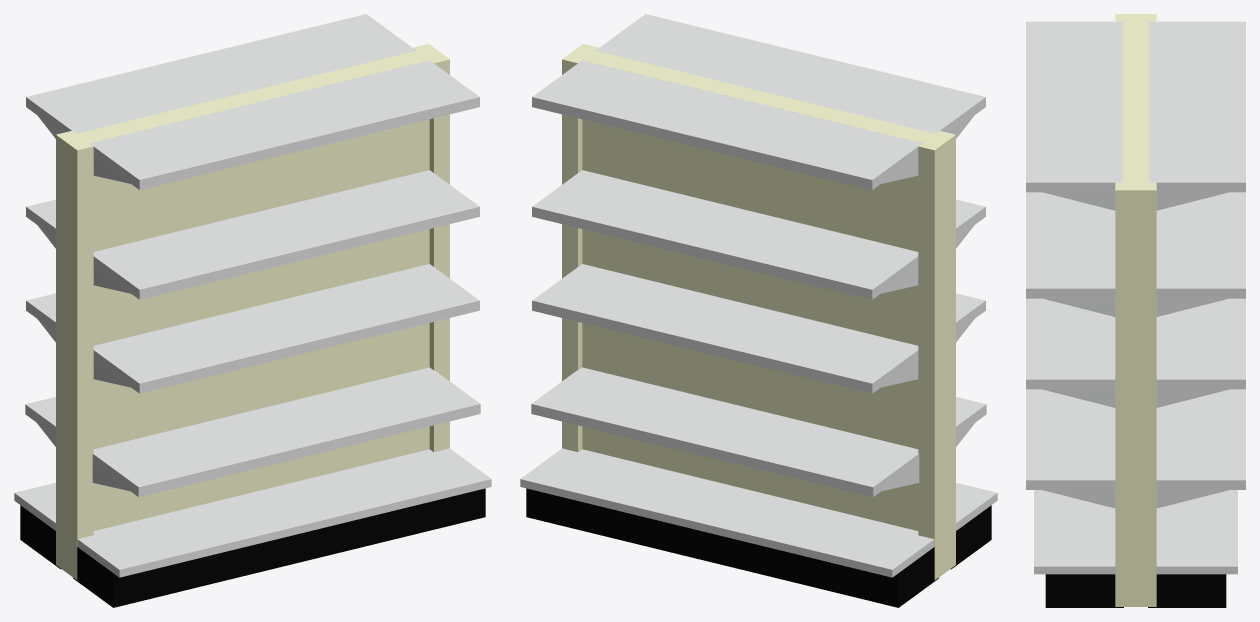
File: Aisle.Shelf.Long_.fbx
3 views of the same model, side by side, from view 1: azimuth 30°, elevation 25°; view 2: azimuth 150°, elevation 25°; view 3: azimuth 270°, elevation 25° (orthographic). The views are drawn at different scales.
Parts seen in each view (by area): view 1: Shelf; view 2: Shelf; view 3: Shelf.
Part boxes in pixels (<box>): Shelf: <box>14,14,491,607</box>; Shelf: <box>520,14,997,607</box>; Shelf: <box>1026,14,1245,607</box>.
Bounding box in the file's own units: 121 × 133 × 63.6.
1 material, 1 textured.
